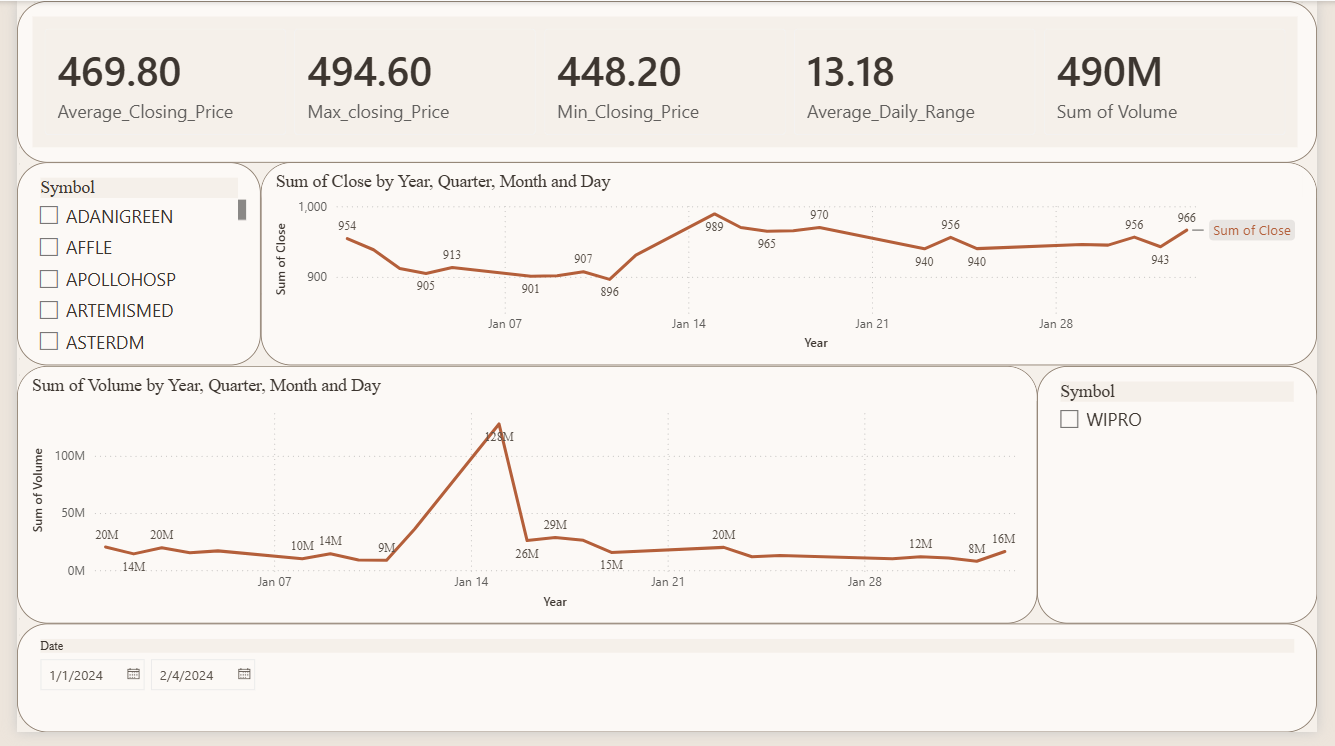

What the dashboard file says about the page in this screenshot:
{"tool":"powerbi","page":{"name":"Page 1","canvas":[1280,720],"ordinal":0},"visuals":[{"type":"cardVisual","fields":{"Data":["Stockslive.Average_Closing_Price","Stockslive.Max_closing_Price","Stockslive.Min_Closing_Price","Stockslive.Average_Daily_Range","Sum(Stockslive.Volume)"]},"box":[0,0,1280.3,159.2],"z":0},{"type":"lineChart","fields":{"Y":["Sum(Stockslive.Volume)"],"Category":["Stockslive.Date.Variation.Date Hierarchy.Year","Stockslive.Date.Variation.Date Hierarchy.Quarter","Stockslive.Date.Variation.Date Hierarchy.Month","Stockslive.Date.Variation.Date Hierarchy.Day"]},"box":[0,359.5,1004.5,253.9],"z":1000},{"type":"lineChart","fields":{"Y":["Sum(Stockslive.Close)"],"Category":["Stockslive.Date.Variation.Date Hierarchy.Year","Stockslive.Date.Variation.Date Hierarchy.Quarter","Stockslive.Date.Variation.Date Hierarchy.Month","Stockslive.Date.Variation.Date Hierarchy.Day"]},"box":[240.1,159.2,1040.1,200.3],"z":2000},{"type":"slicer","fields":{"Values":["Stockslive.Symbol"]},"box":[0,159.2,240.1,200.3],"z":3000},{"type":"slicer","fields":{"Values":["Stockslive.Symbol"]},"box":[1004.5,359.5,275.8,253.9],"z":4000},{"type":"slicer","fields":{"Values":["Stockslive.Date"]},"box":[0,613.4,1280.3,107],"z":5000}]}

Visuals, with their boxes in screenshot pixels (x1, y1, x2, y2), scaled from the page's 1280x720 canvas onto the 1335x746 screenshot:
cardVisual - Stockslive.Average_Closing_Price x Stockslive.Max_closing_Price: rect(0, 0, 1334, 165)
lineChart - Sum(Stockslive.Volume) x Stockslive.Date.Variation.Date Hierarchy.Year: rect(0, 372, 1048, 636)
lineChart - Sum(Stockslive.Close) x Stockslive.Date.Variation.Date Hierarchy.Year: rect(250, 165, 1334, 372)
slicer - Stockslive.Symbol: rect(0, 165, 250, 372)
slicer - Stockslive.Symbol: rect(1048, 372, 1334, 636)
slicer - Stockslive.Date: rect(0, 636, 1334, 745)
